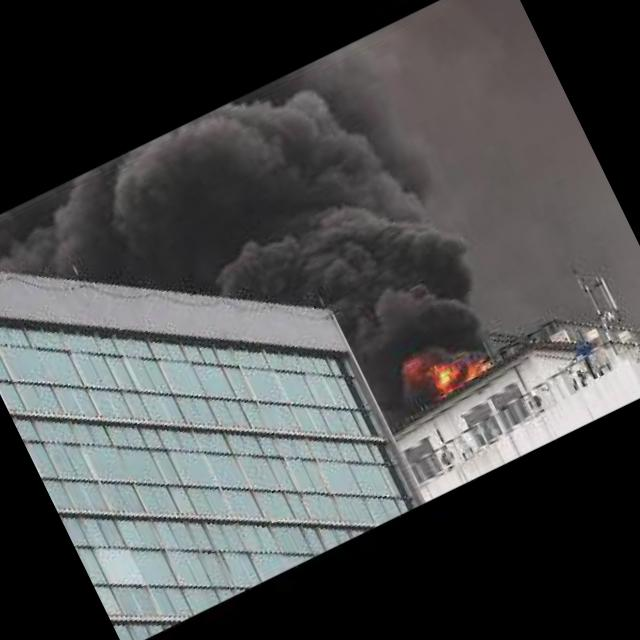fire: (406, 328, 497, 402)
smoke: (96, 30, 515, 452)
